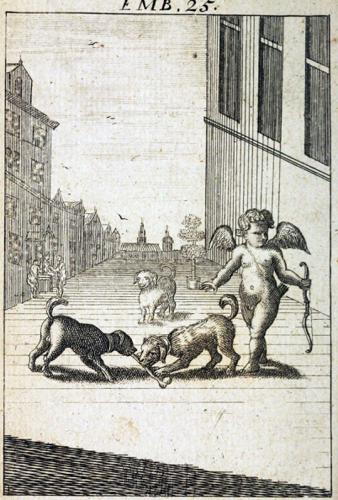angel: (194, 210, 313, 377)
dog: (29, 314, 132, 381), (137, 315, 240, 377), (135, 271, 176, 320)
